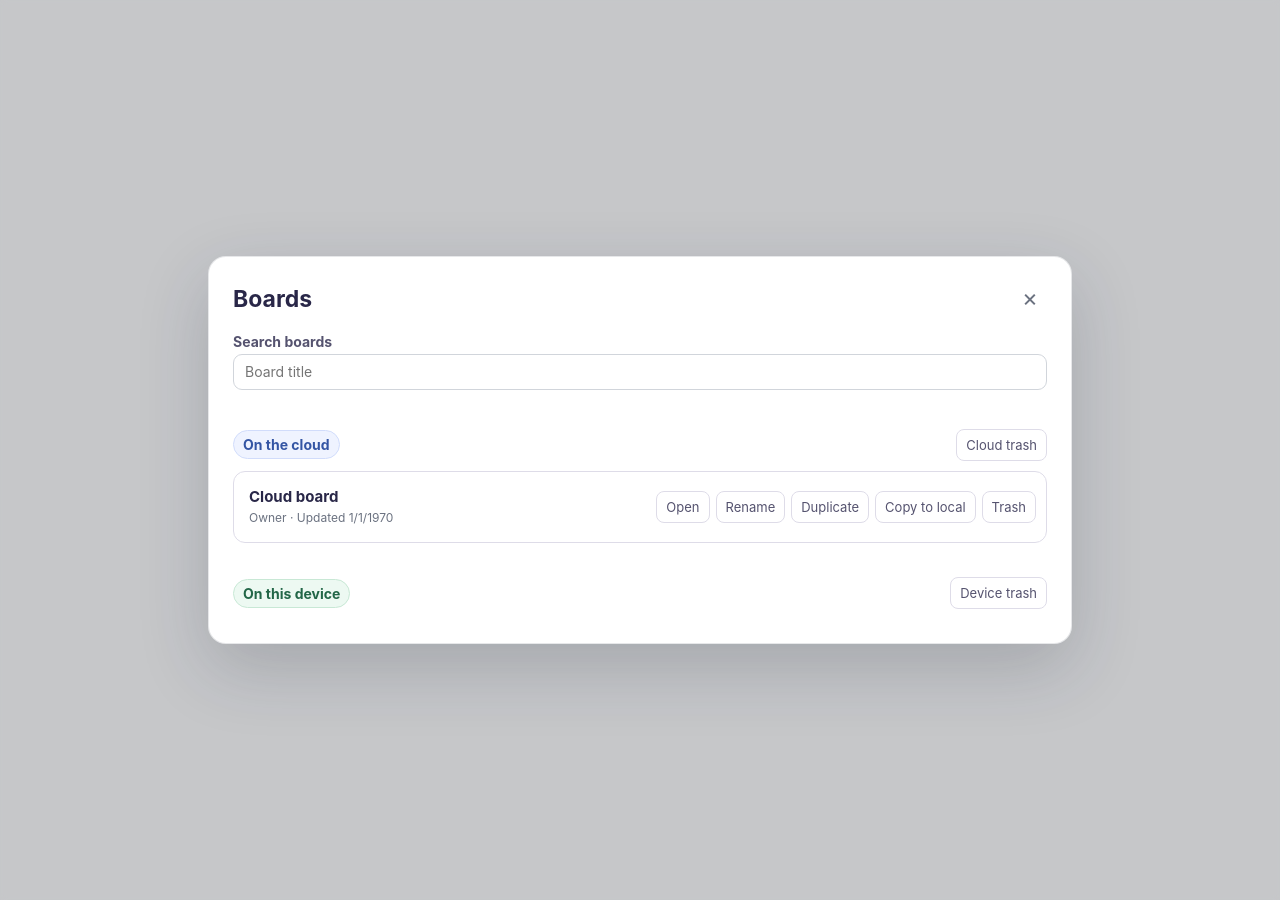
Test: LocalBoardLibrary › reports a cloud section emptied by the search apart from having none
The width and height of the screenshot is (1280, 900).
Type "nothing here" into the search field labelled "Search boards" at {"x": 640, "y": 372}, box [233,354,1047,390]
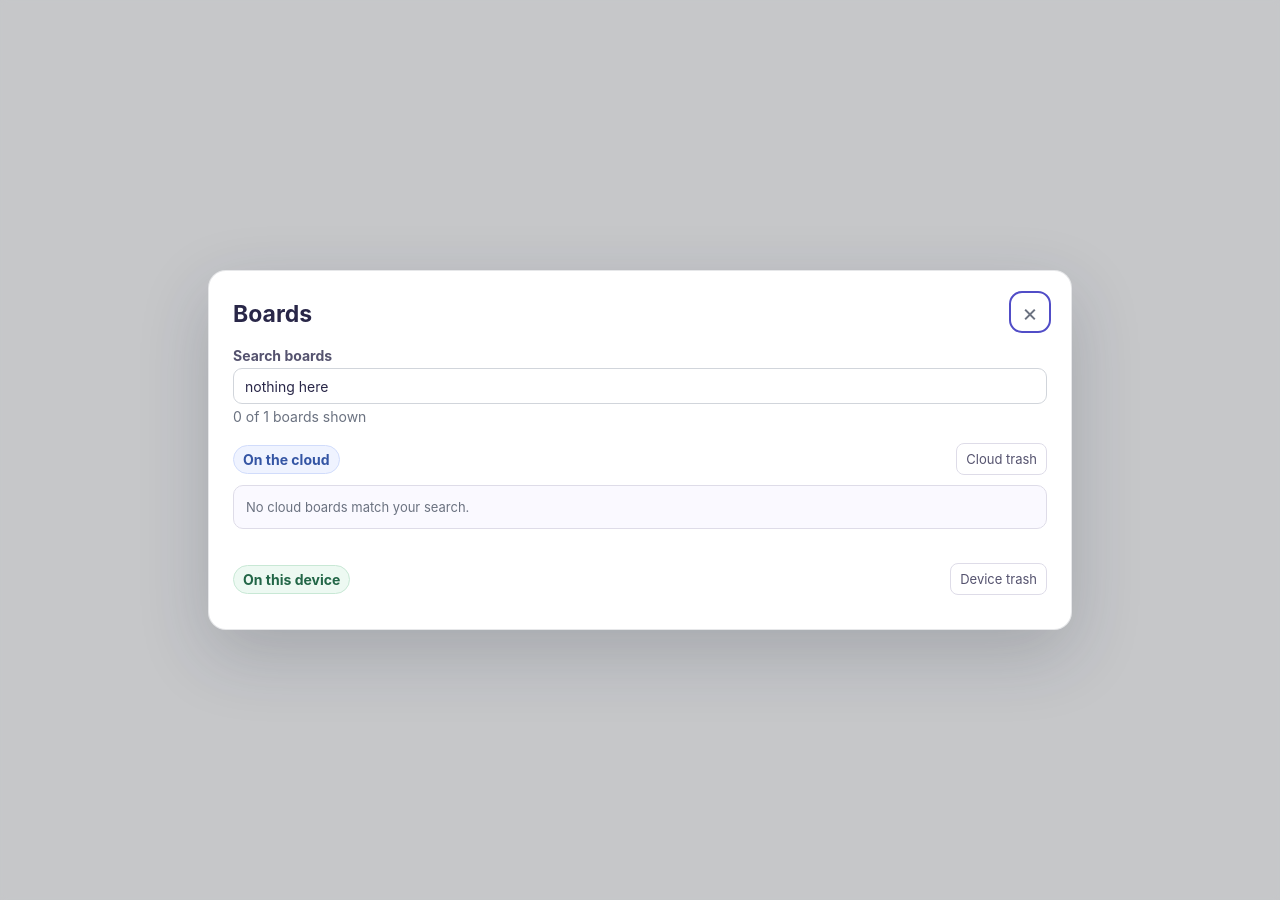
Result: the text "No cloud boards match your search." is shown at [233,485,1047,529]
